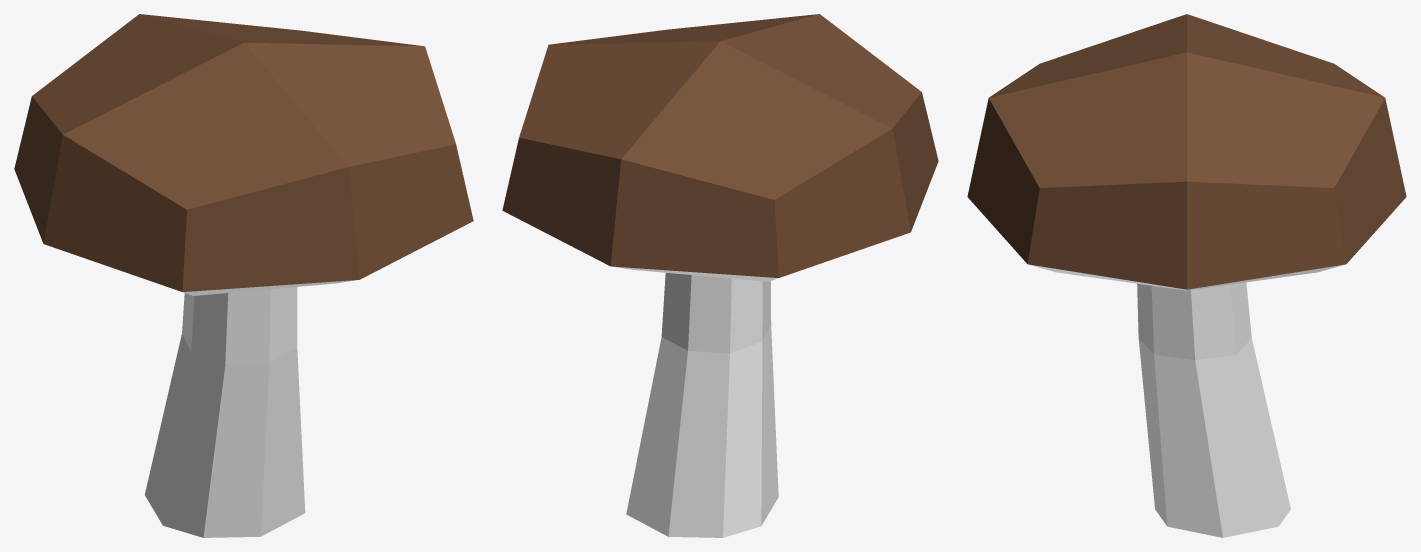
Rendered from Lehmatatti.fbx.
3 views of the same model, side by side, from view 1: azimuth 30°, elevation 25°; view 2: azimuth 150°, elevation 25°; view 3: azimuth 270°, elevation 25° (orthographic). The views are drawn at different scales.
Parts seen in each view (by area): view 1: Cap.004, Leg.004; view 2: Cap.004, Leg.004; view 3: Cap.004, Leg.004.
Part boxes in pixels (x1,y1,x2,y2): Cap.004: (14,14,473,295); Leg.004: (144,287,305,537); Cap.004: (502,14,938,281); Leg.004: (626,273,778,537); Cap.004: (967,14,1406,290); Leg.004: (1137,282,1290,537).
Size of the model in its own units: 18.26 by 21.83 by 18.26.
